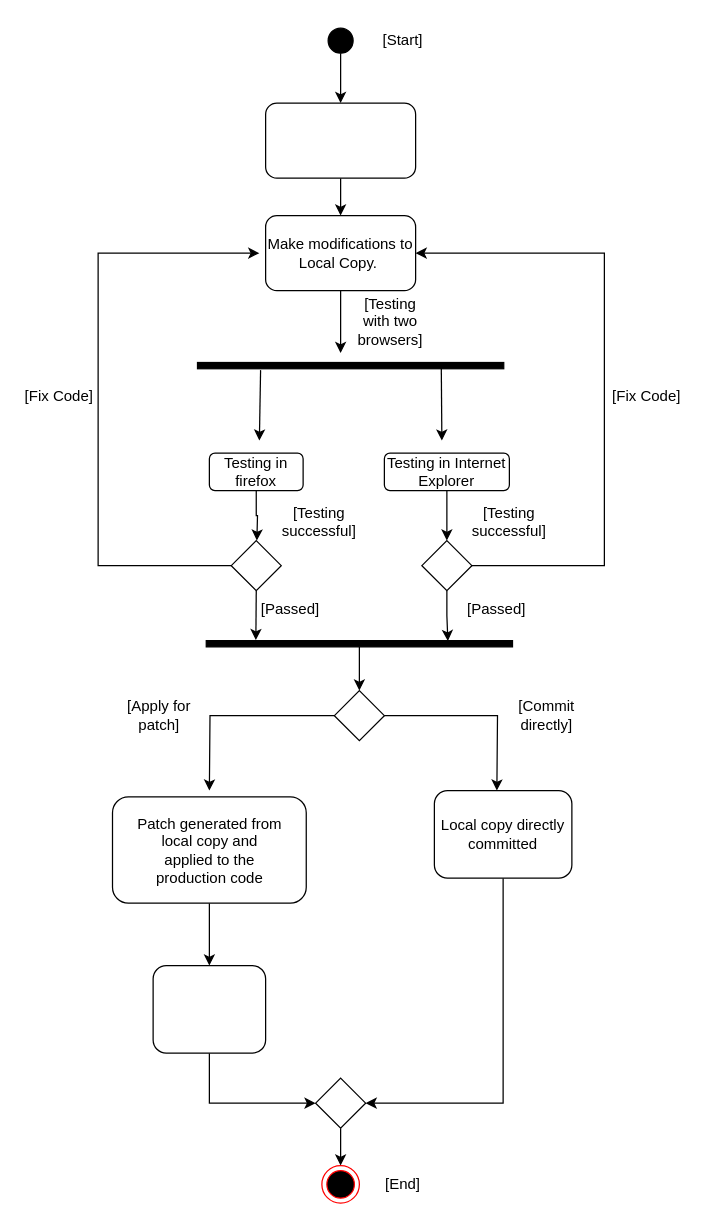
The diagram is 705 pixels wide and 1225 high, and some of its shapes have lost their labels. Here are the shapes that lost their labels. From the top down, the centre of each, then its label:
At (x=340, y=140): "Check out code from subversion repository (Local Copy)".
At (x=209, y=1008): "Local copy is committed to the SVN repository".
